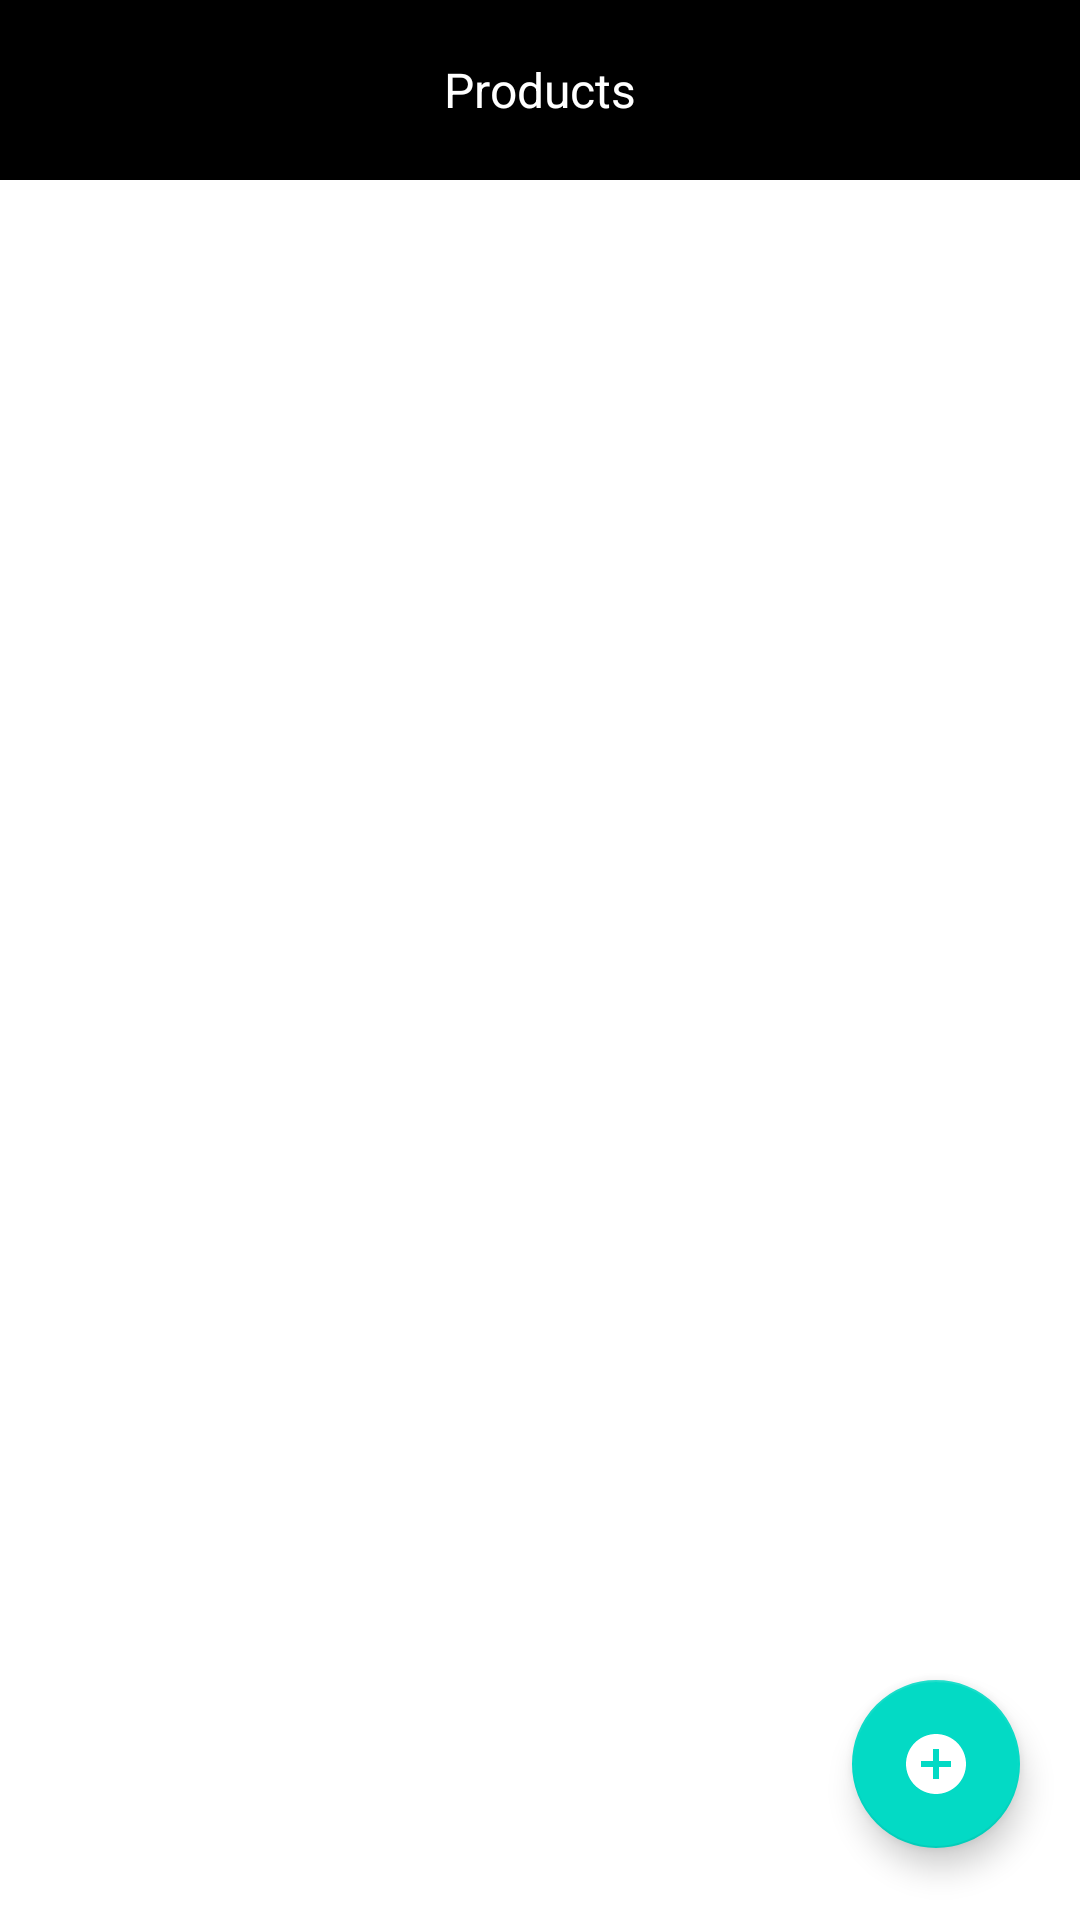

Icon click points for this 1080px×1920px phone screenshot, format point (x, y):
add circle: point (936, 1764)
